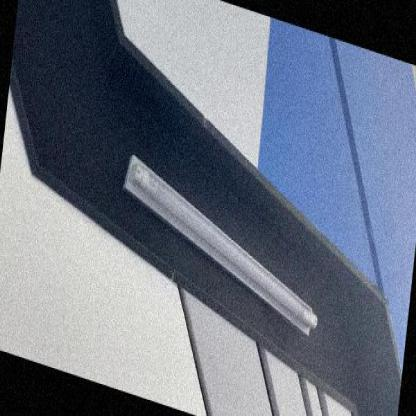light_off: (109, 127, 340, 374)
